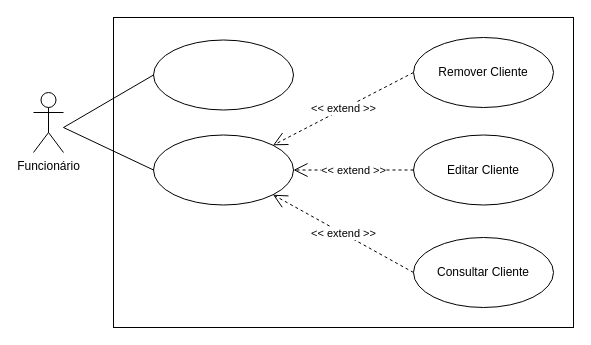
Some shapes in this 591 by 345 pixel diagram are drawn without their labels. The centre of each missing label's shape, as x and y in pixels:
Inserir Cliente: the point at 223,74
Listar Clientes: the point at 223,169
